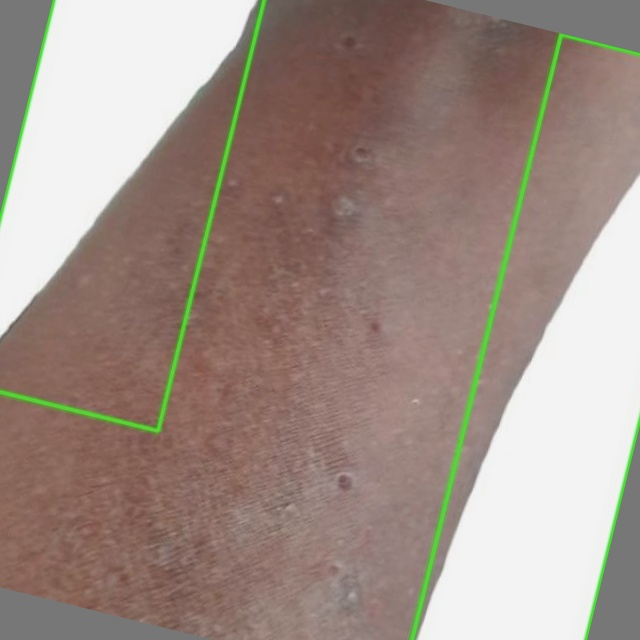Contact Dermatitis: (412, 34, 639, 639), (0, 0, 264, 431)
